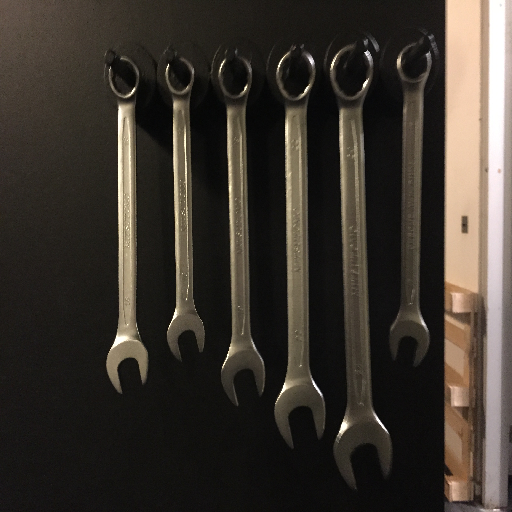bottom: (332, 413, 396, 492), (274, 378, 328, 450), (220, 343, 267, 408), (104, 331, 150, 393), (387, 310, 430, 368), (164, 309, 207, 361)
top: (327, 43, 376, 107), (273, 45, 318, 104), (393, 39, 435, 91), (215, 53, 256, 106), (104, 53, 144, 102), (162, 56, 198, 101)
